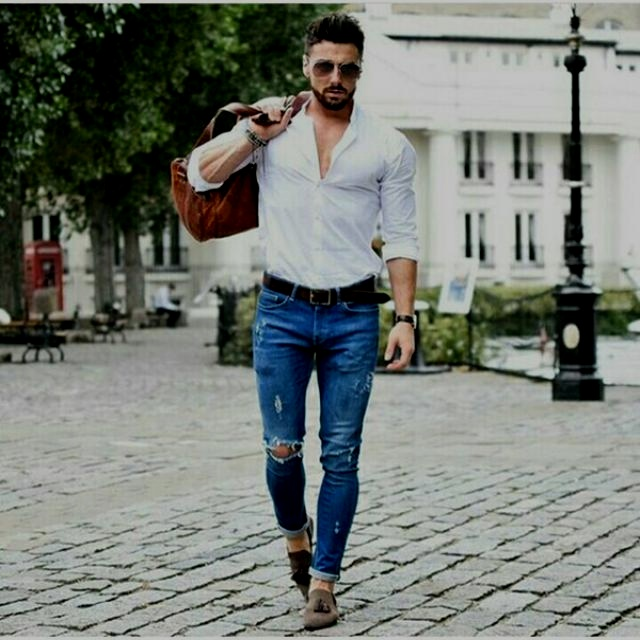low_neckline: (263, 106, 384, 182)
ripped_pants: (252, 283, 381, 583)
